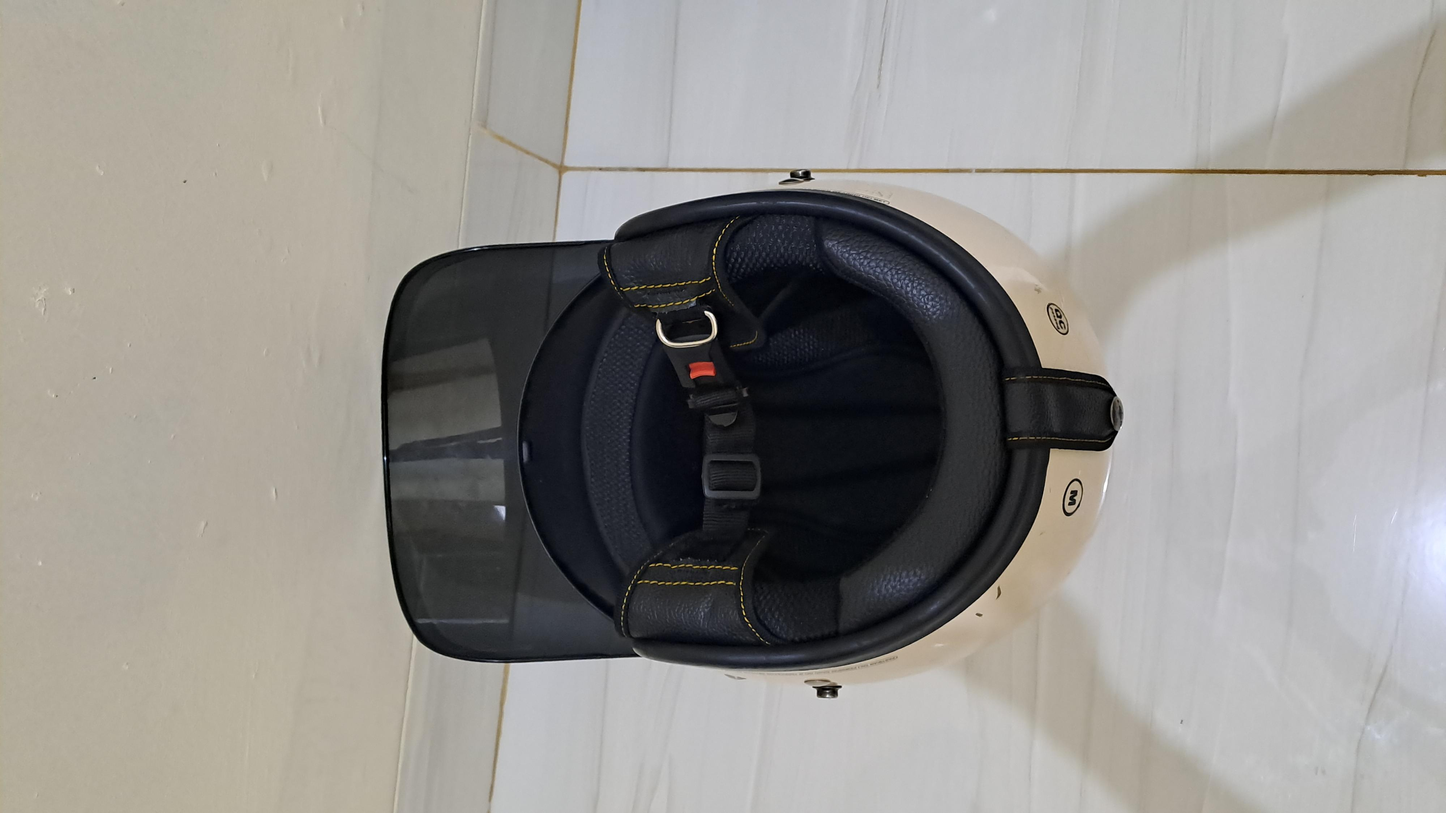helmet: (195, 204, 1155, 633)
